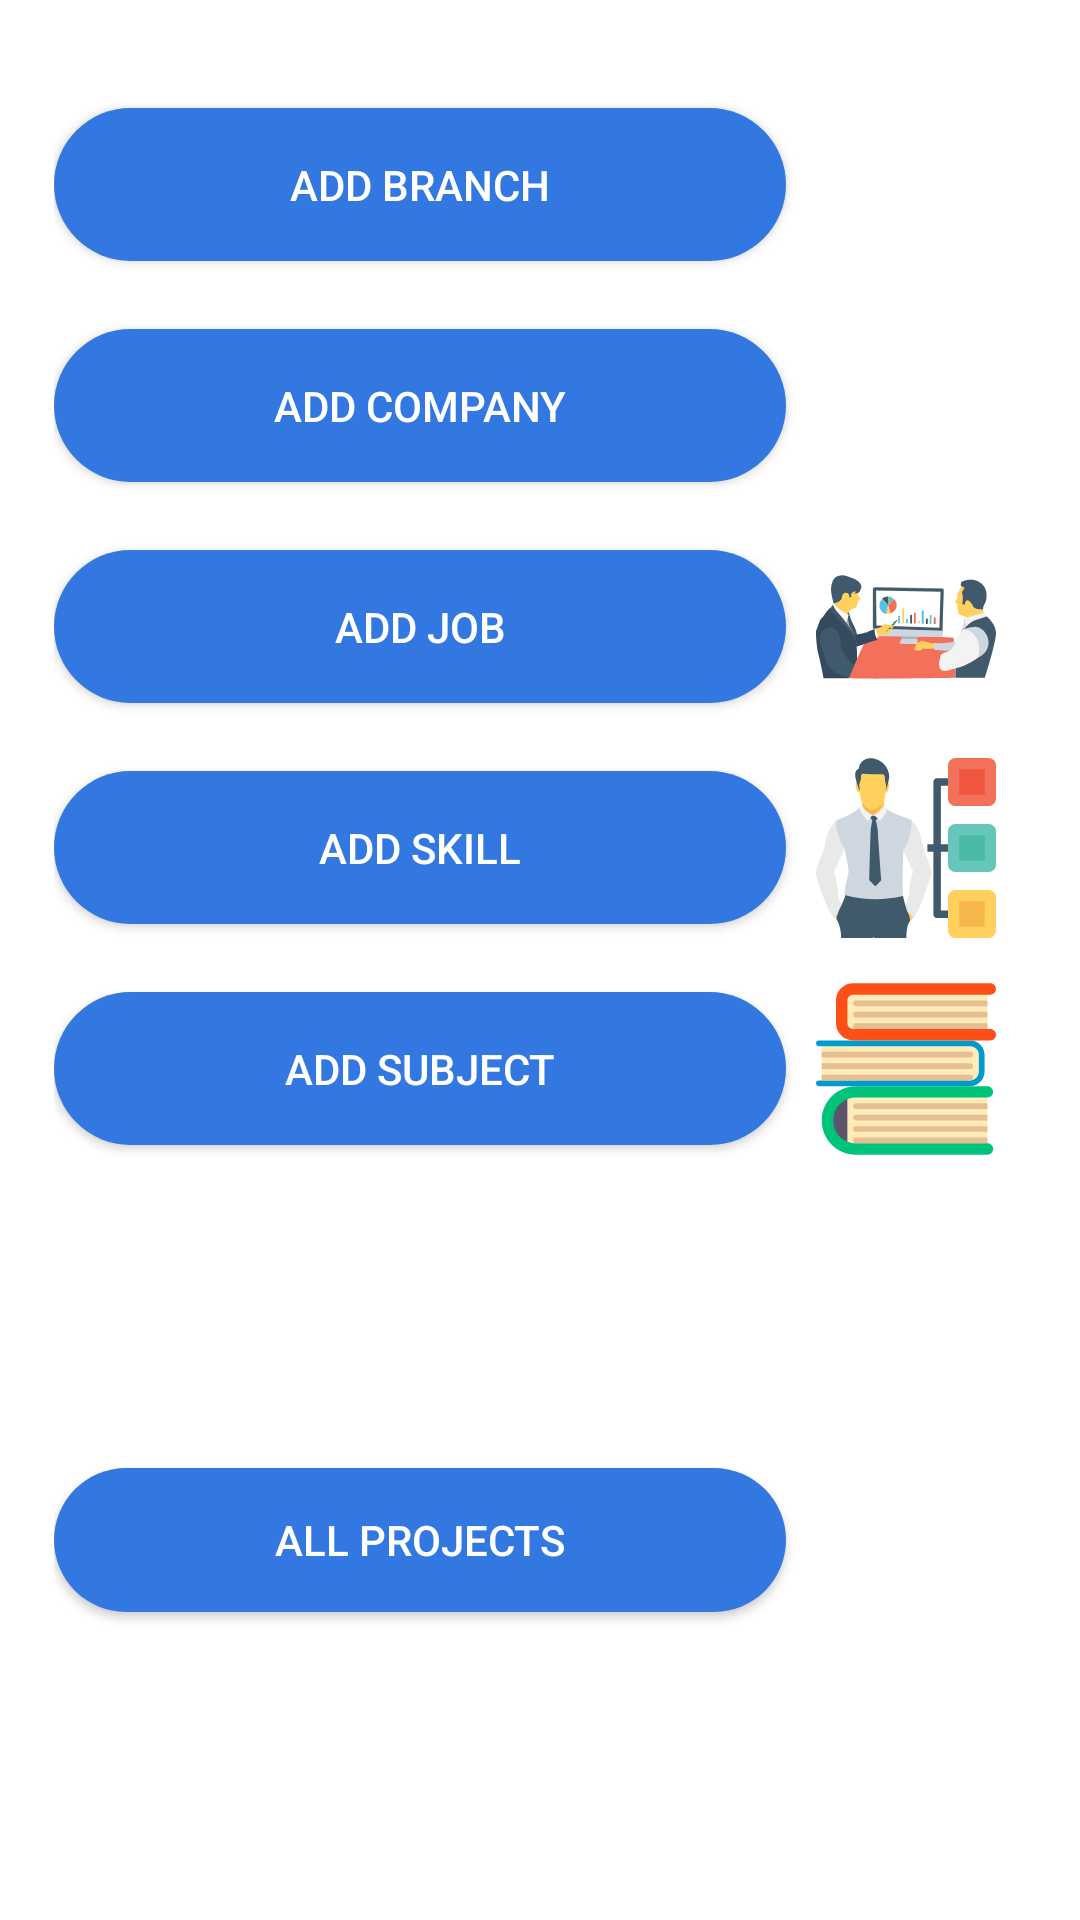

Where icons sit on this 1080px x 1920px app screen, as (x1, y1, x2, y2):
skills: (835, 758, 996, 938)
